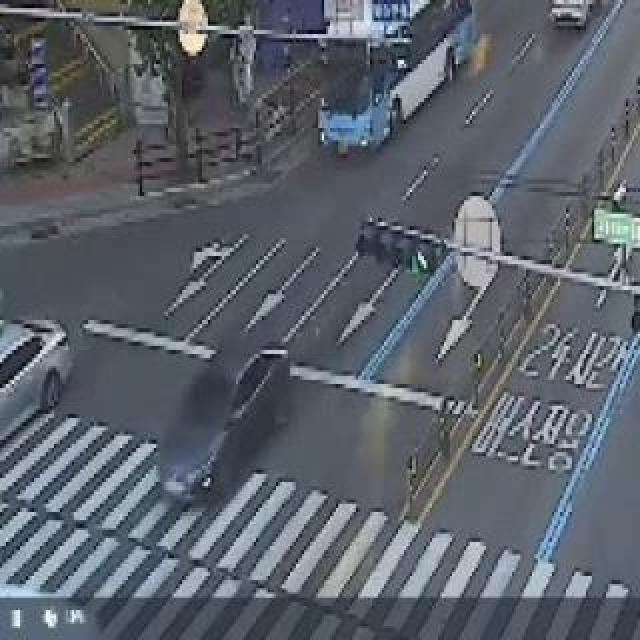truck: (548, 0, 616, 48)
